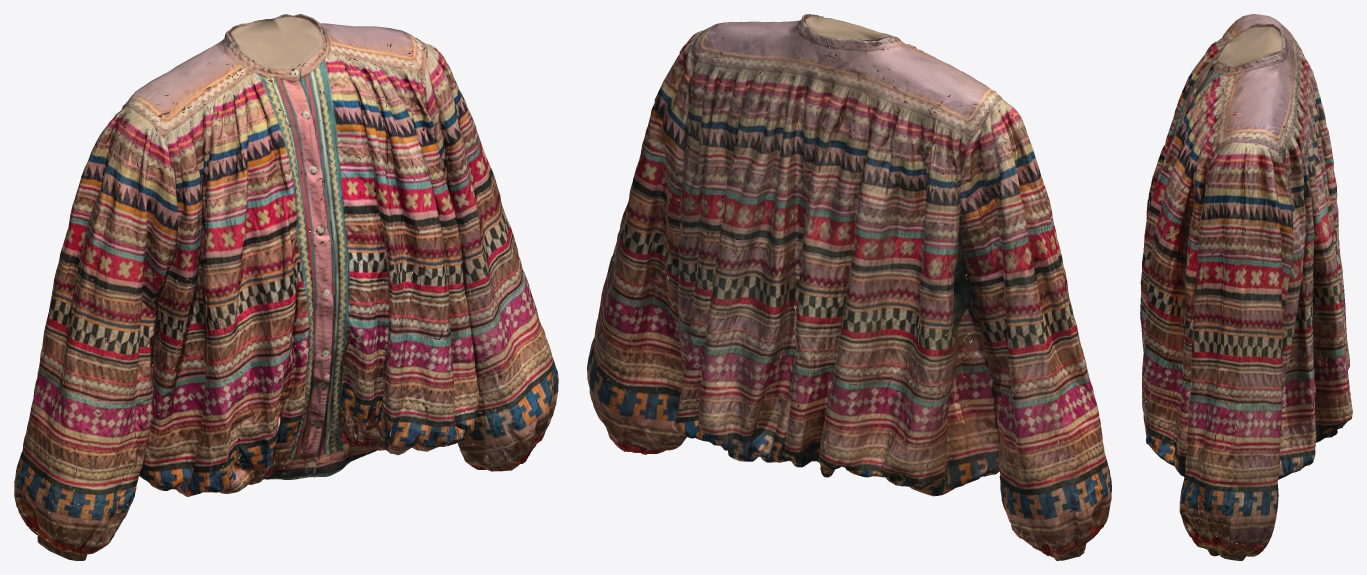
Rendered from patchwork-bomber.glb.
3 views of the same model, side by side, from view 1: azimuth 30°, elevation 25°; view 2: azimuth 150°, elevation 25°; view 3: azimuth 270°, elevation 25° (orthographic). The views are drawn at different scales.
Parts seen in each view (by area): view 1: Object_2; view 2: Object_2; view 3: Object_2.
Boxes of the visible parts, left/top/right/bottom form: Object_2: left=14, top=14, right=558, bottom=560; Object_2: left=587, top=14, right=1111, bottom=560; Object_2: left=1140, top=14, right=1352, bottom=560.
Size of the model in its own units: 0.8104 by 0.7149 by 0.325.
Materials: 1 (1 with a texture image).
